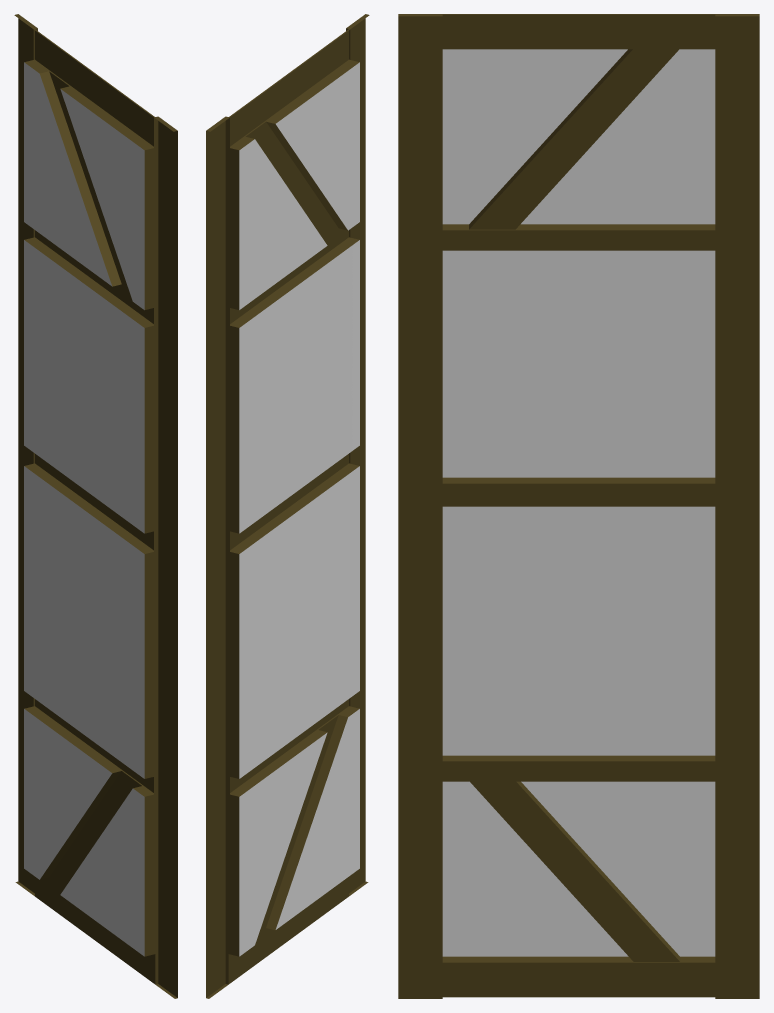
The model's file is GB_Wall_3Stripe_1M_V2.fbx.
3 renders of one model, left to right at view 1: azimuth 30°, elevation 25°; view 2: azimuth 150°, elevation 25°; view 3: azimuth 270°, elevation 25°, orthographic. The views are drawn at different scales.
Visible parts, largest first — view 1: HalfWall_Plaster14; view 2: HalfWall_Plaster14; view 3: HalfWall_Plaster14.
Boxes of the visible parts, box(x1,y1,x2,y2) form: HalfWall_Plaster14: box(14, 14, 177, 998); HalfWall_Plaster14: box(206, 14, 369, 998); HalfWall_Plaster14: box(398, 14, 759, 998).
Bounding box in the file's own units: 0.05 × 3 × 1.
